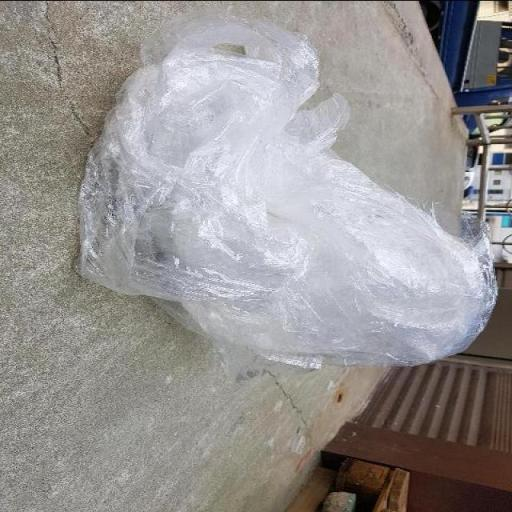plastic-bag: (72, 13, 499, 381)
